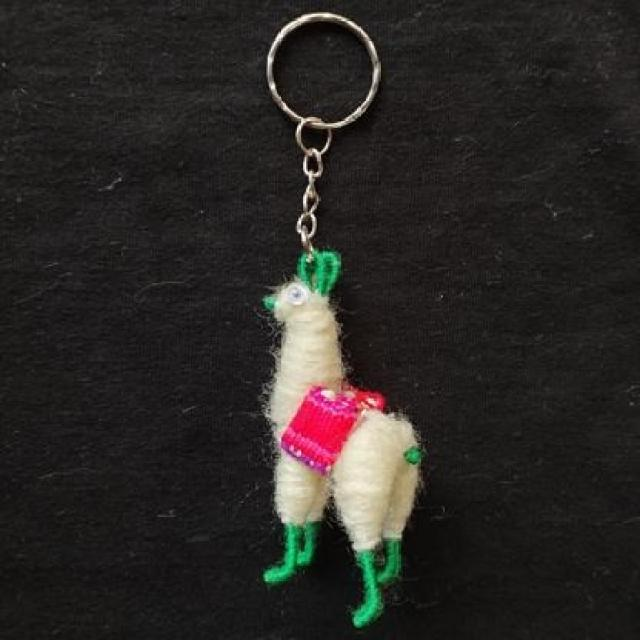Llavero: (258, 248, 424, 629)
